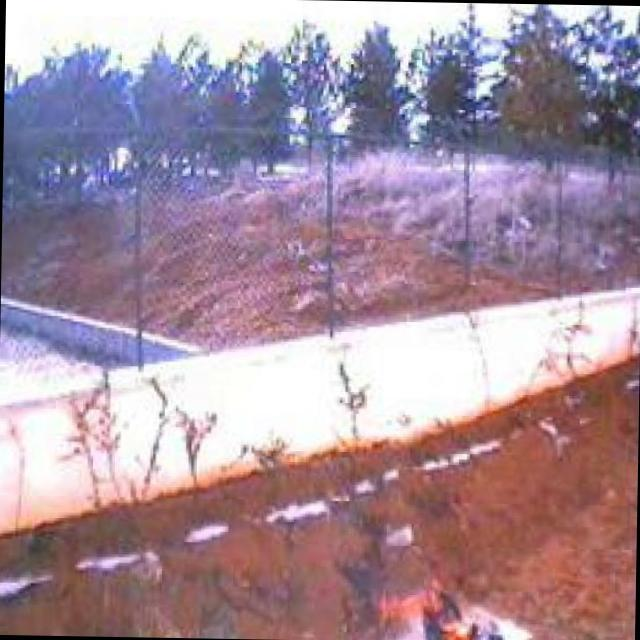Fire: (374, 573, 504, 640)
